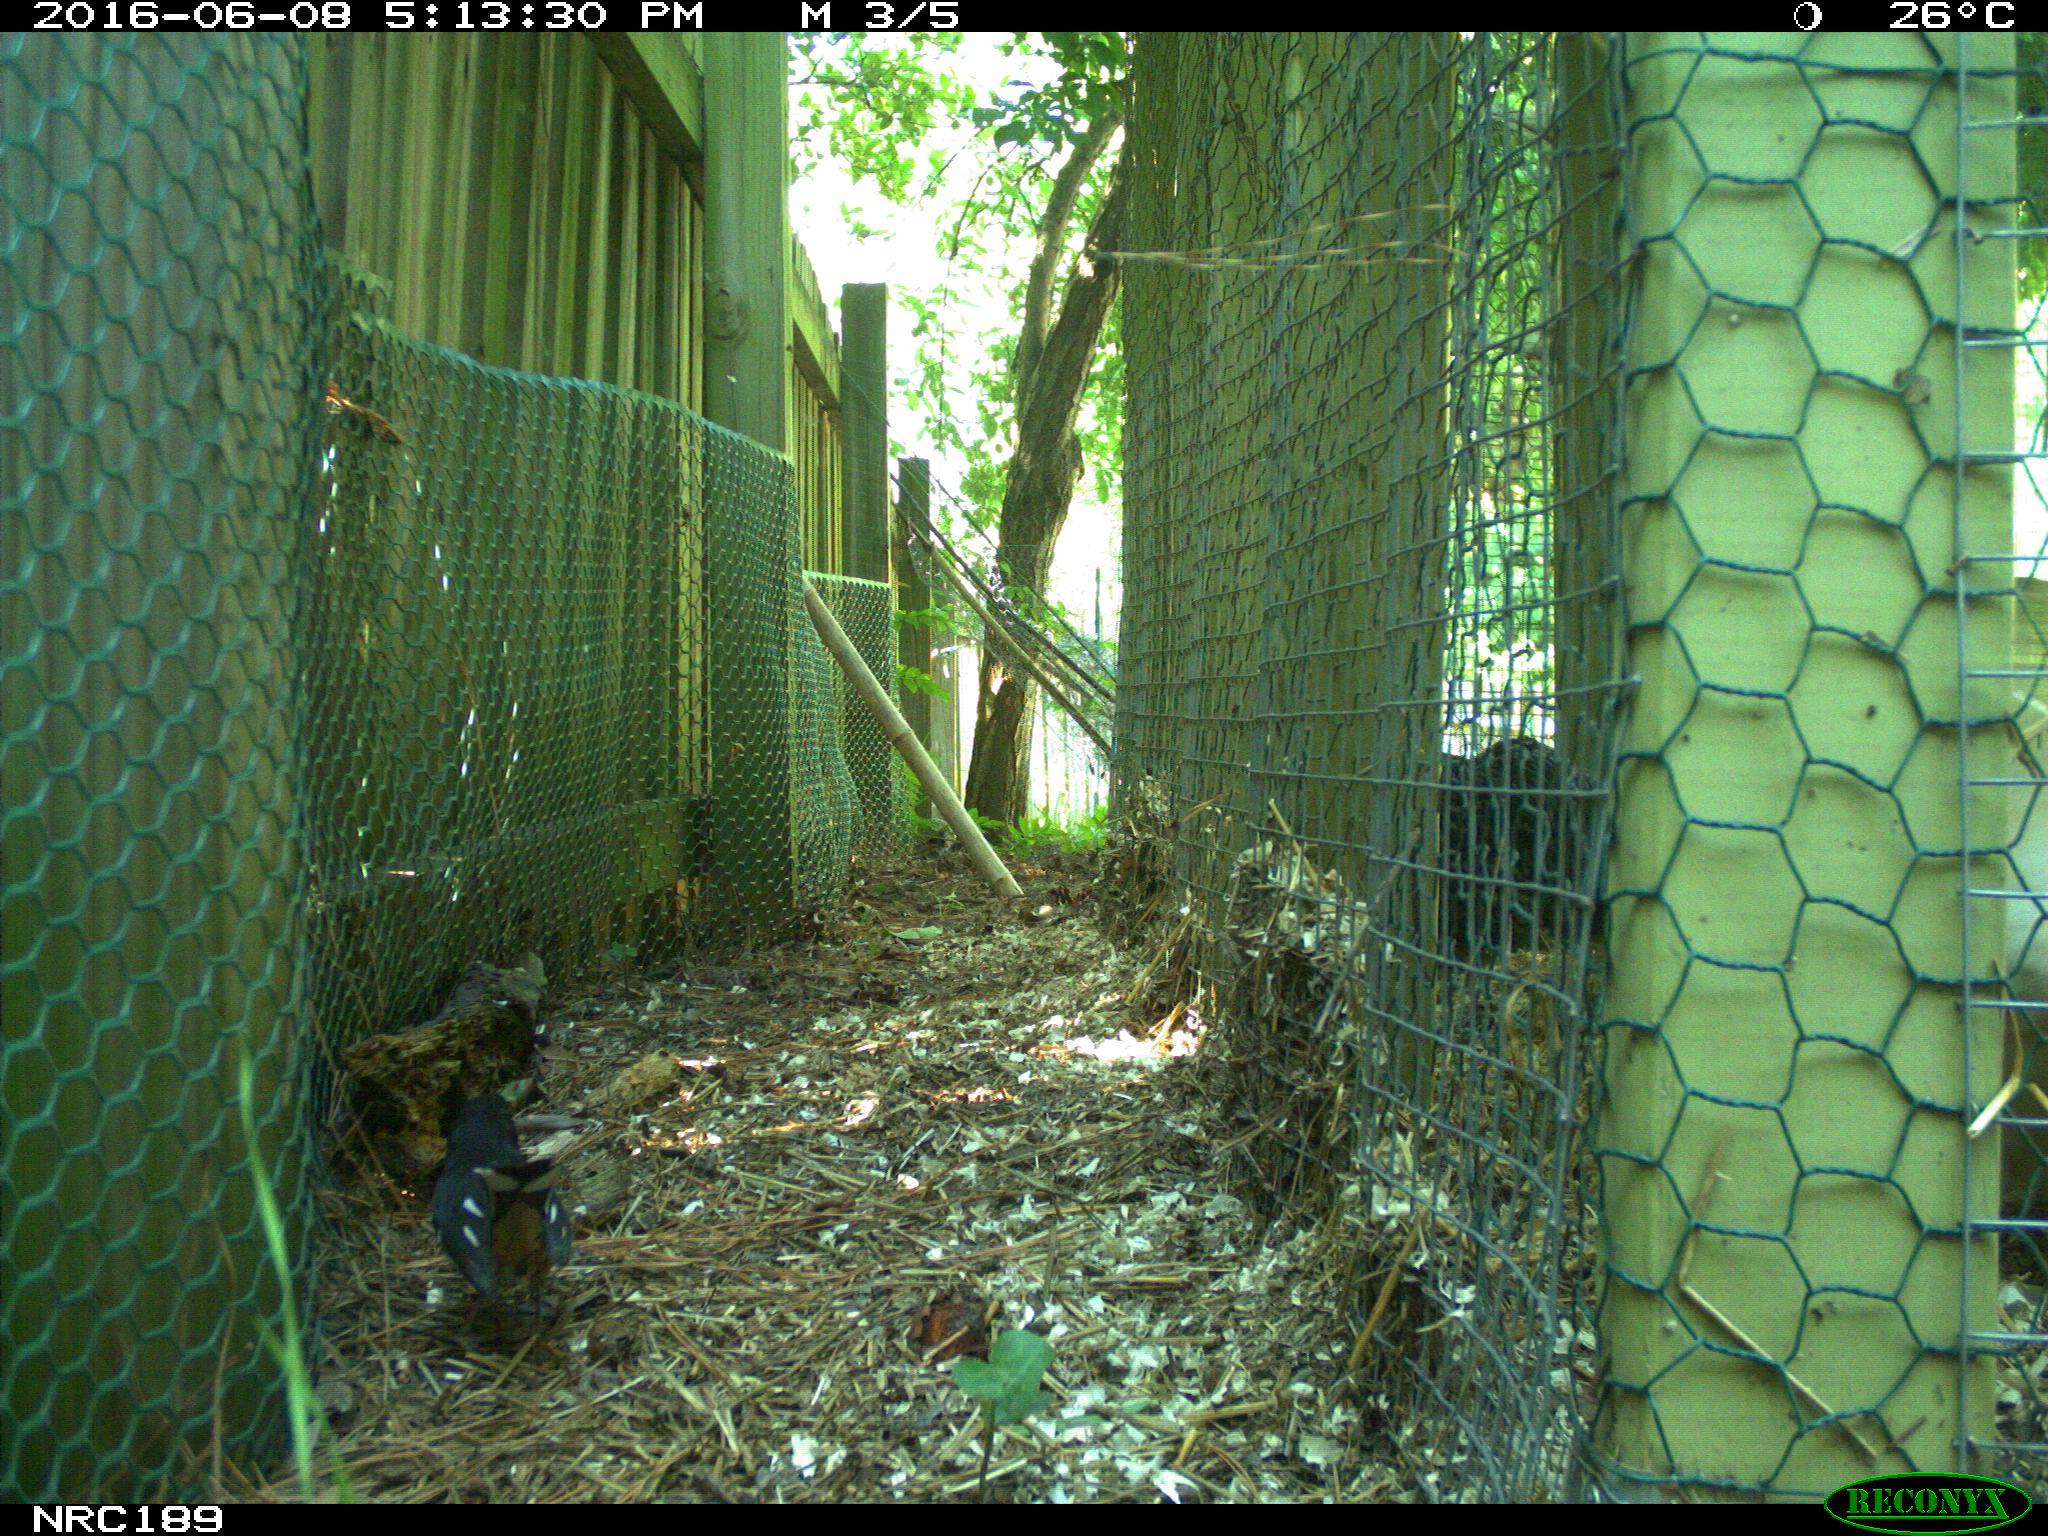Animal: (431, 1091, 572, 1352)
